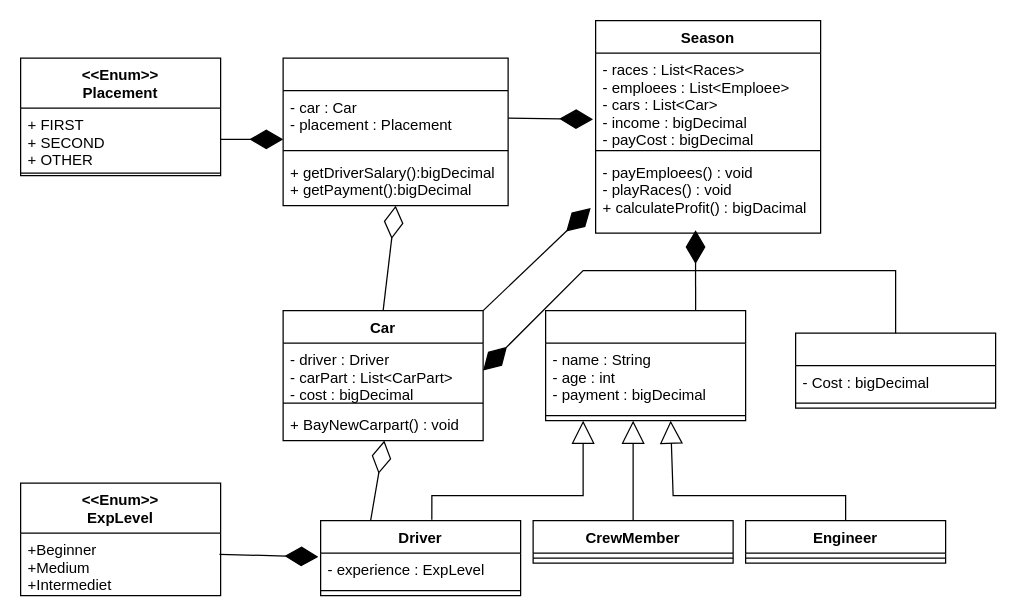
This 1016x616 diagram has some shape labels left out. Here are the shapes that lost their labels. From the top down, the box of each, then its label:
(282, 57, 508, 206): Race
(544, 309, 746, 421): Empoyee
(794, 332, 996, 408): CarPart
